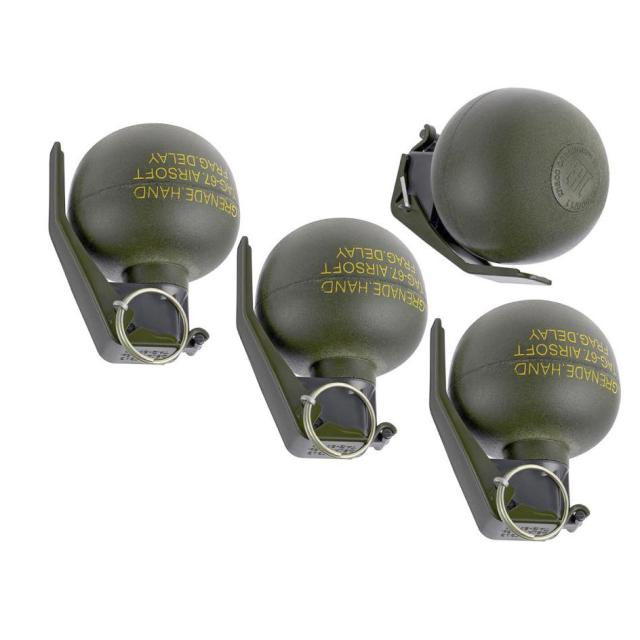grenade: (50, 123, 242, 367), (237, 221, 430, 460), (431, 302, 621, 542), (389, 89, 610, 285)
